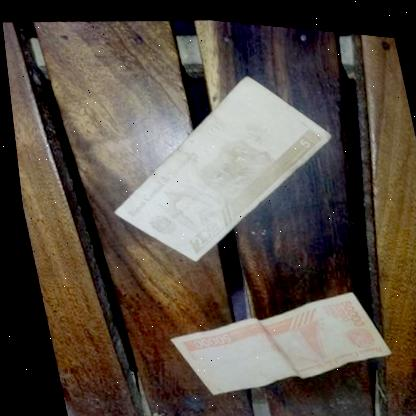vef_back: (80, 50, 355, 278)
